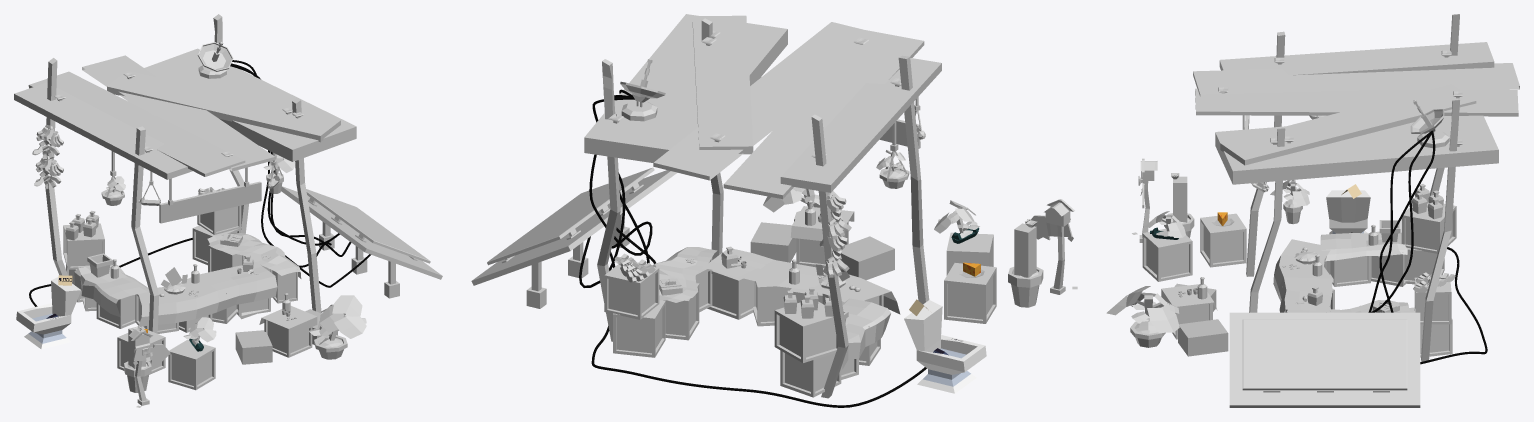
File: Vendinha.fbx
3 views of the same model, side by side, from view 1: azimuth 30°, elevation 25°; view 2: azimuth 150°, elevation 25°; view 3: azimuth 270°, elevation 25° (orthographic). The views are drawn at different scales.
Visible parts, largest first — view 1: estrutura; view 2: estrutura; view 3: estrutura.
Part boxes in pixels (x1,y1,x2,y2): estrutura: (14,14,442,407); estrutura: (471,14,1077,407); estrutura: (1106,14,1519,407).
Bounding box in the file's own units: 828 × 732 × 515.
